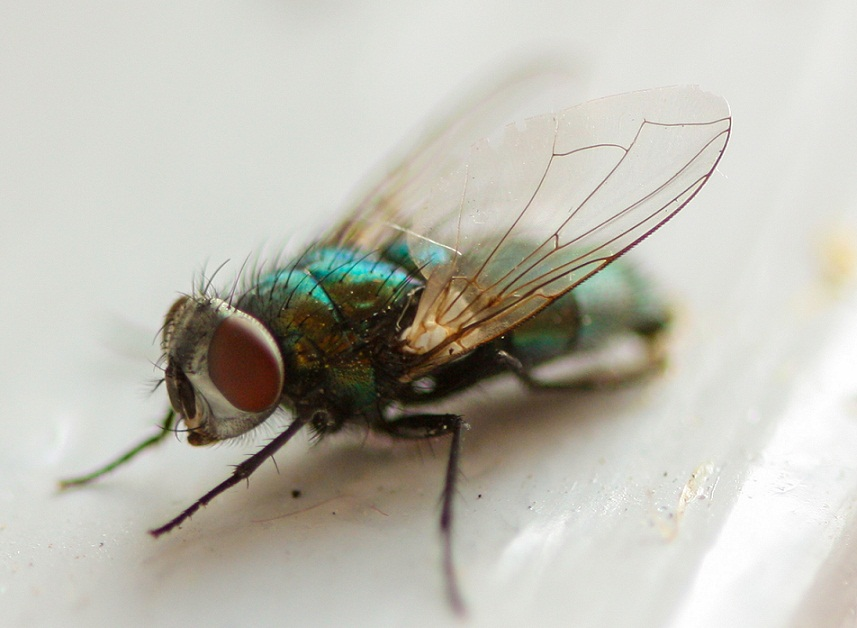fly: (52, 40, 742, 578)
